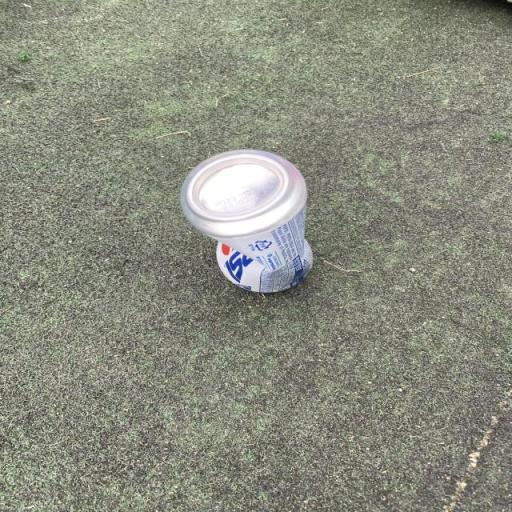metal: (162, 135, 390, 327)
